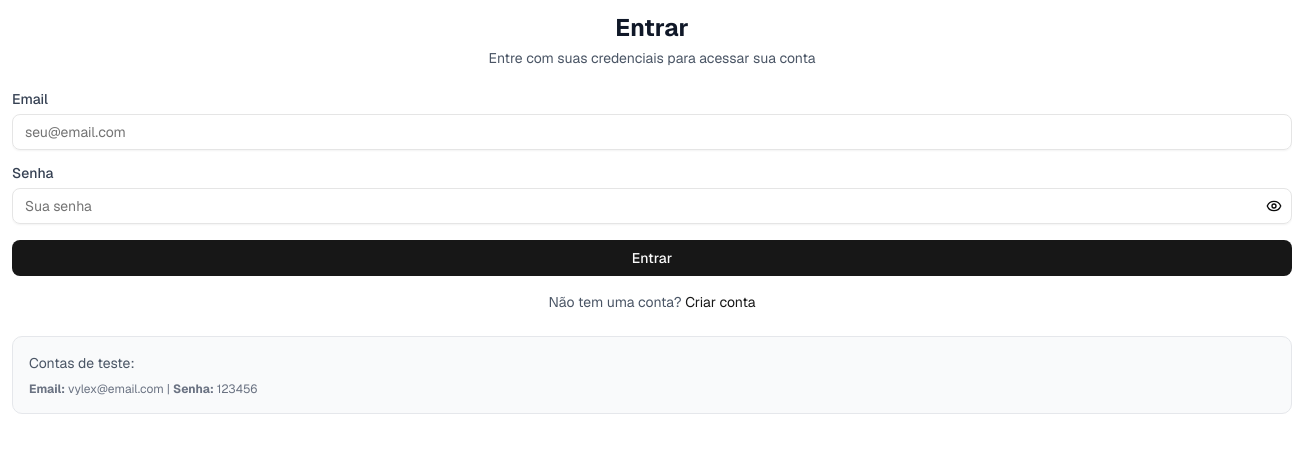
Test: LoginForm › deve mostrar erro quando login falha
In the field labelled "Email": (652, 132) [12,114,1292,150], type "test@example.com"
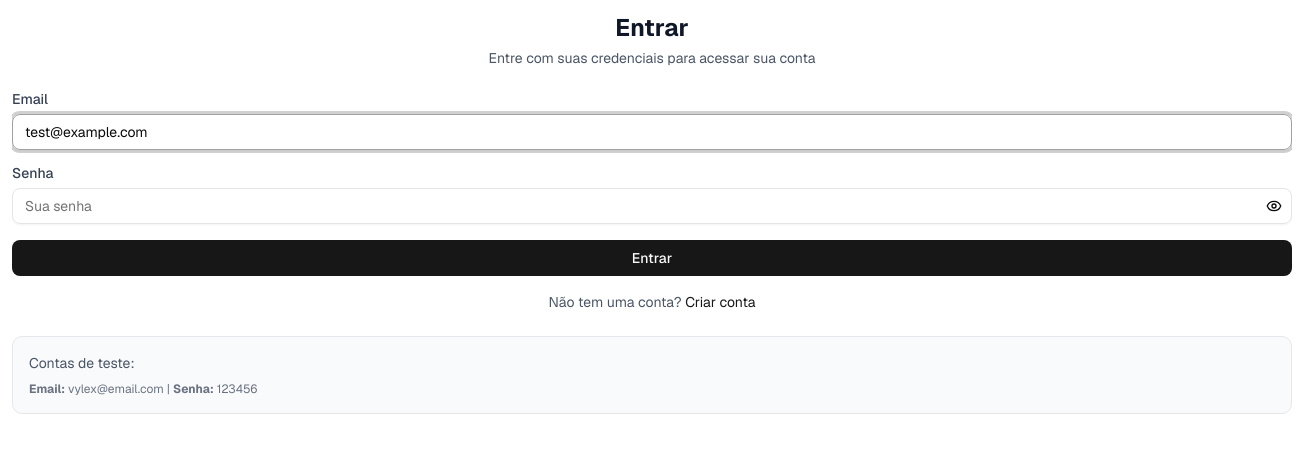
In the password field labelled "Senha": (652, 206) [12,188,1292,224], type "wrongpassword"
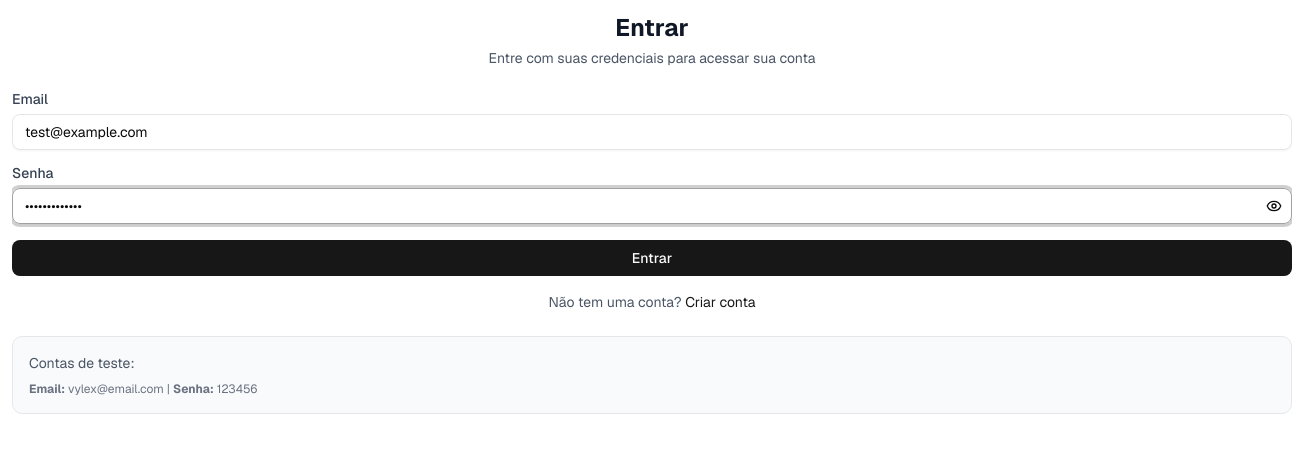
Click the button "Entrar": (652, 258) [12,240,1292,276]
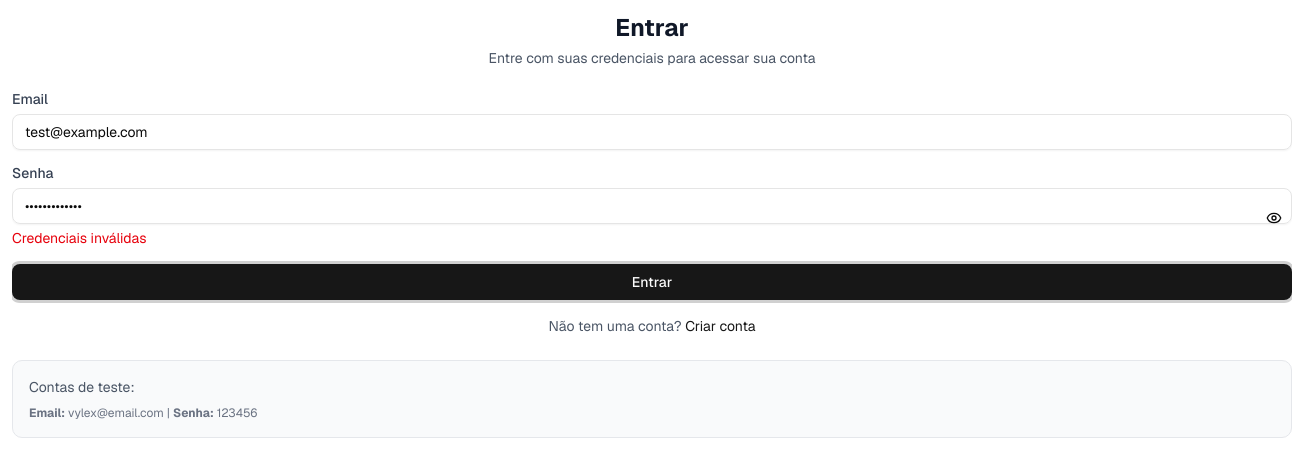
Check: the text "Credenciais inválidas" is shown, box [12,229,146,247]
